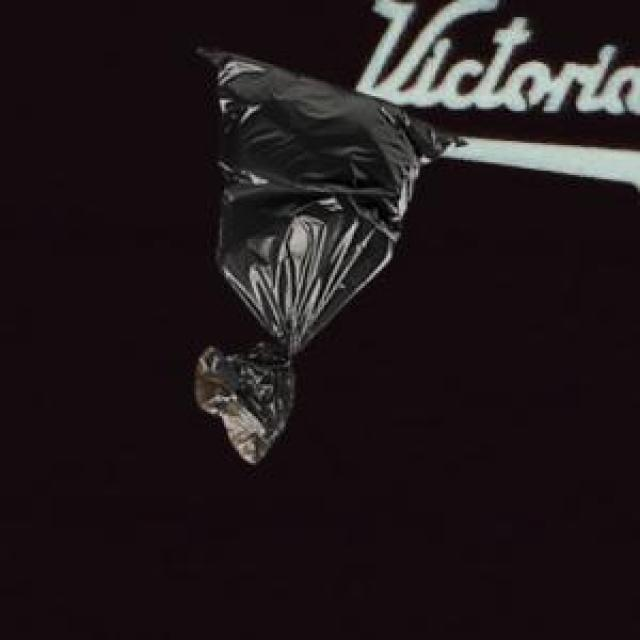waste: (195, 49, 451, 464)
